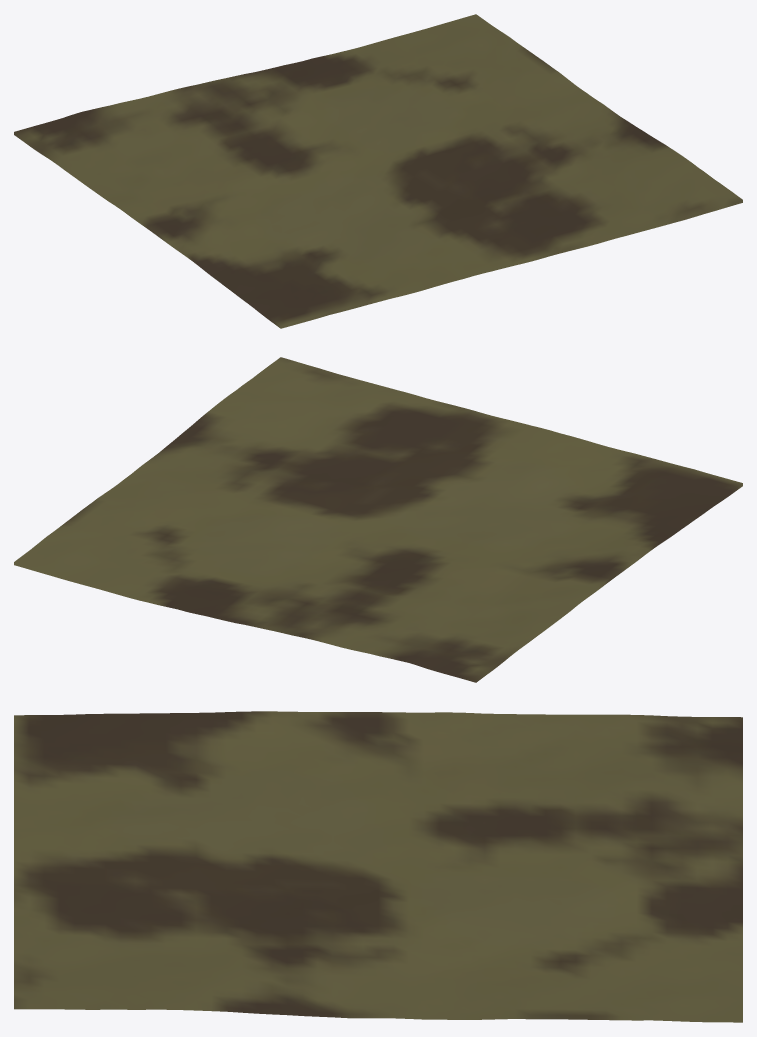
The model's file is land_m_12_11.glb.
3 renders of one model, top to bottom at view 1: azimuth 30°, elevation 25°; view 2: azimuth 150°, elevation 25°; view 3: azimuth 270°, elevation 25°, orthographic. The views are drawn at different scales.
Visible parts, largest first — view 1: land_m_12_11; view 2: land_m_12_11; view 3: land_m_12_11.
Boxes of the visible parts, left/top/right/bottom form: land_m_12_11: left=14, top=14, right=742, bottom=328; land_m_12_11: left=14, top=357, right=742, bottom=682; land_m_12_11: left=14, top=711, right=742, bottom=1022.
Size of the model in its own units: 960 by 35.23 by 960.
